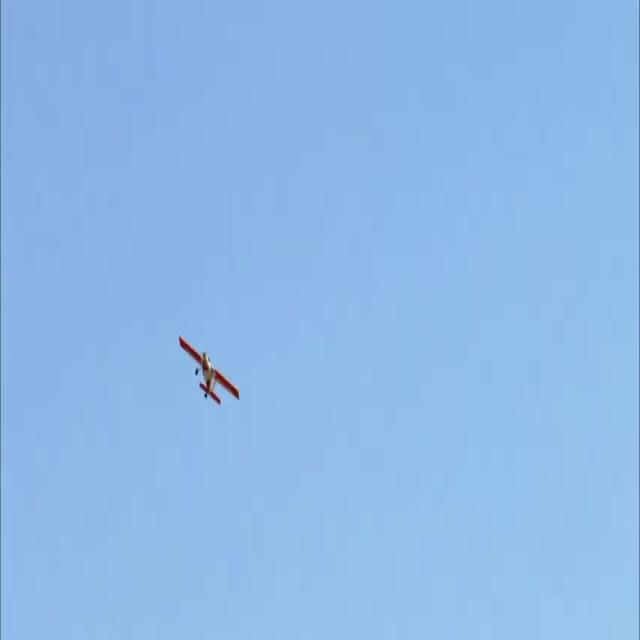iha: (178, 367, 241, 372)
